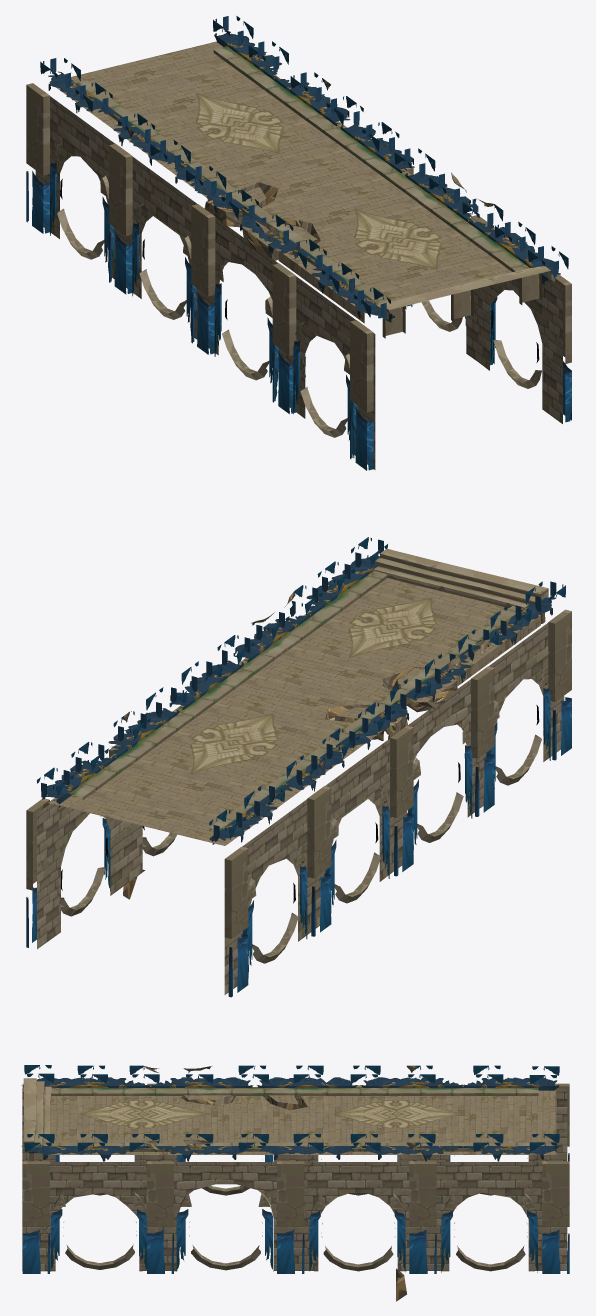
The model's file is TaiZi02.FBX.
The picture shows the model from 3 angles, top to bottom: view 1: azimuth 30°, elevation 25°; view 2: azimuth 150°, elevation 25°; view 3: azimuth 270°, elevation 25°; orthographic projection. The views are drawn at different scales.
Visible parts, largest first — view 1: Object801126856, Object801126858, Object801126860, Object801126859, Plane009; view 2: Object801126856, Object801126858, Object801126860, Object801126859, Plane009; view 3: Object801126856, Object801126860, Object801126858, Object801126859, Plane009.
Boxes of the visible parts, x1,y1,x2,y2 form: Object801126856: (26,16,571,470); Object801126858: (49,41,511,323); Object801126860: (35,96,562,469); Object801126859: (48,31,560,338); Plane009: (195,92,442,269); Object801126856: (26,537,571,997); Object801126858: (48,578,540,845); Object801126860: (37,623,564,994); Object801126859: (46,555,555,899); Plane009: (190,597,436,773); Object801126856: (22,1065,569,1273); Object801126860: (22,1088,567,1271); Object801126858: (49,1085,556,1154); Object801126859: (21,1065,559,1301); Plane009: (79,1100,465,1128).
Size of the model in its own units: 375 by 326 by 1073.
